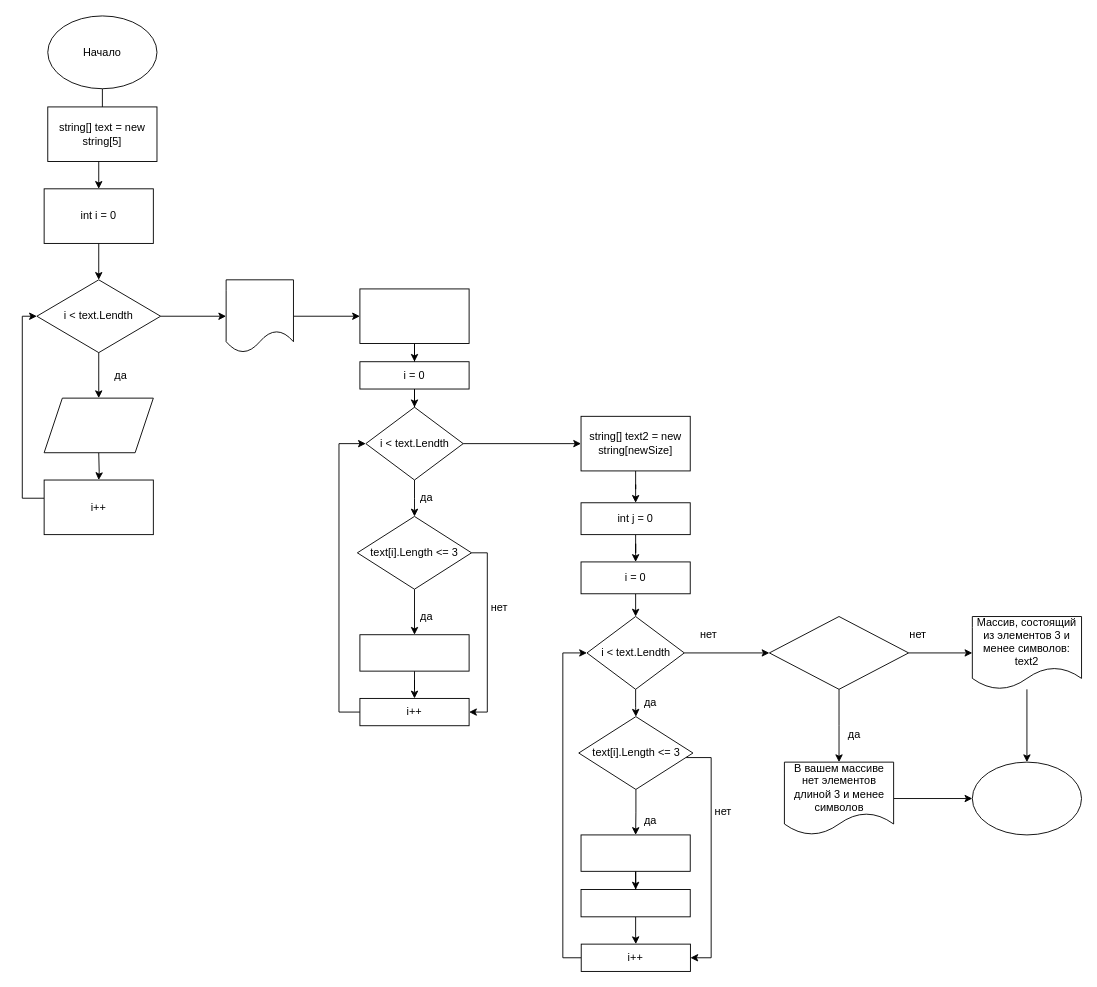
Image size: 1097x987. Some labels were removed from this diagram. The shapes that lost their labels are listed below. From the top down, each one's box as (x1, y1, x2, y2) in pixels, then its label:
(225, 279, 293, 353): text
(359, 288, 469, 344): int newSize = 0
(43, 397, 153, 453): text[i]
(359, 634, 469, 671): newSize++
(768, 616, 909, 689): newSize == 0
(971, 761, 1082, 835): Конец
(580, 834, 690, 871): text2[j] = text[i]
(580, 889, 690, 917): j++
